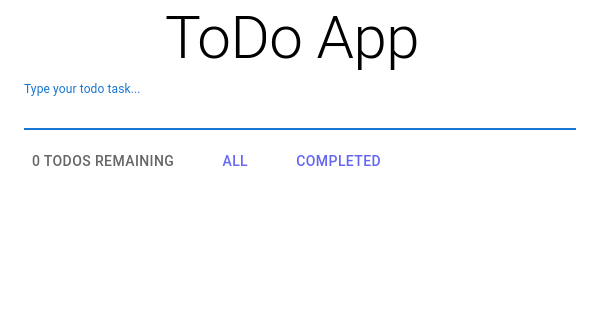
Scenario: my todo app › test: add new todo item
The width and height of the screenshot is (593, 309).
Type "Buy fresh fruits" into the field labelled "Type your todo task...". click: {"x": 300, "y": 114}
box: [24,98,576,130]
Then press Enter
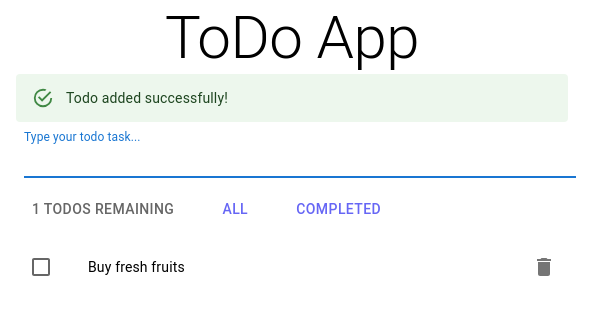
Result: the number of list items is 1 at [16,242,568,292]
